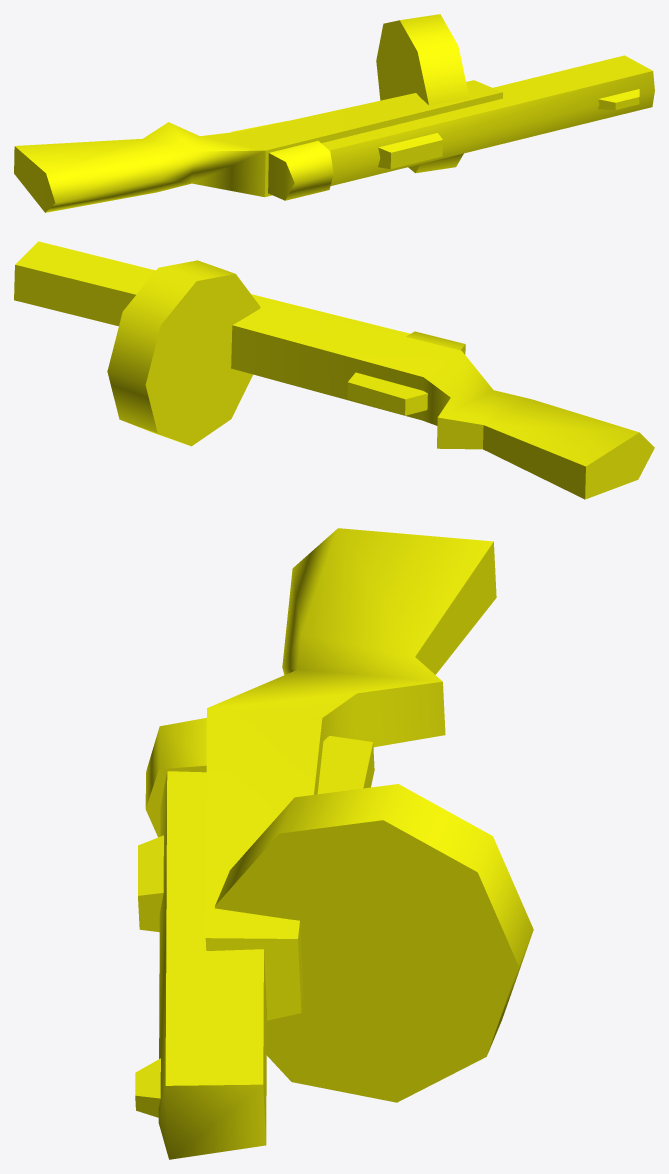
Rendered from weapon_ppsh41.glb.
3 renders of one model, top to bottom at view 1: azimuth 30°, elevation 25°; view 2: azimuth 150°, elevation 25°; view 3: azimuth 270°, elevation 25°, orthographic. The views are drawn at different scales.
Visible parts, largest first — view 1: weapon_ppsh41; view 2: weapon_ppsh41; view 3: weapon_ppsh41.
Boxes of the visible parts, bbox=[...] form: weapon_ppsh41: bbox=[14, 14, 654, 212]; weapon_ppsh41: bbox=[14, 241, 654, 499]; weapon_ppsh41: bbox=[135, 528, 533, 1159].
Bounding box in the file's own units: 1.47 × 0.3502 × 0.4488.
Materials: 1 (1 with a texture image).
